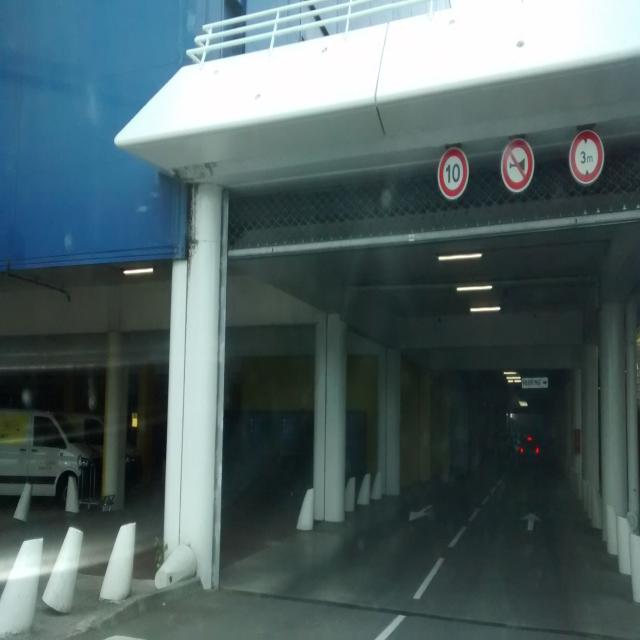car: (0, 407, 94, 509), (62, 414, 143, 486), (519, 433, 540, 466)
